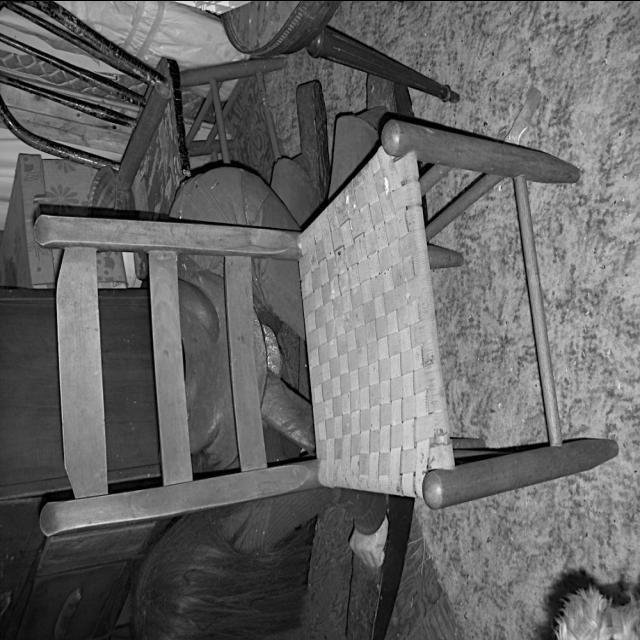chair: (30, 118, 618, 538)
